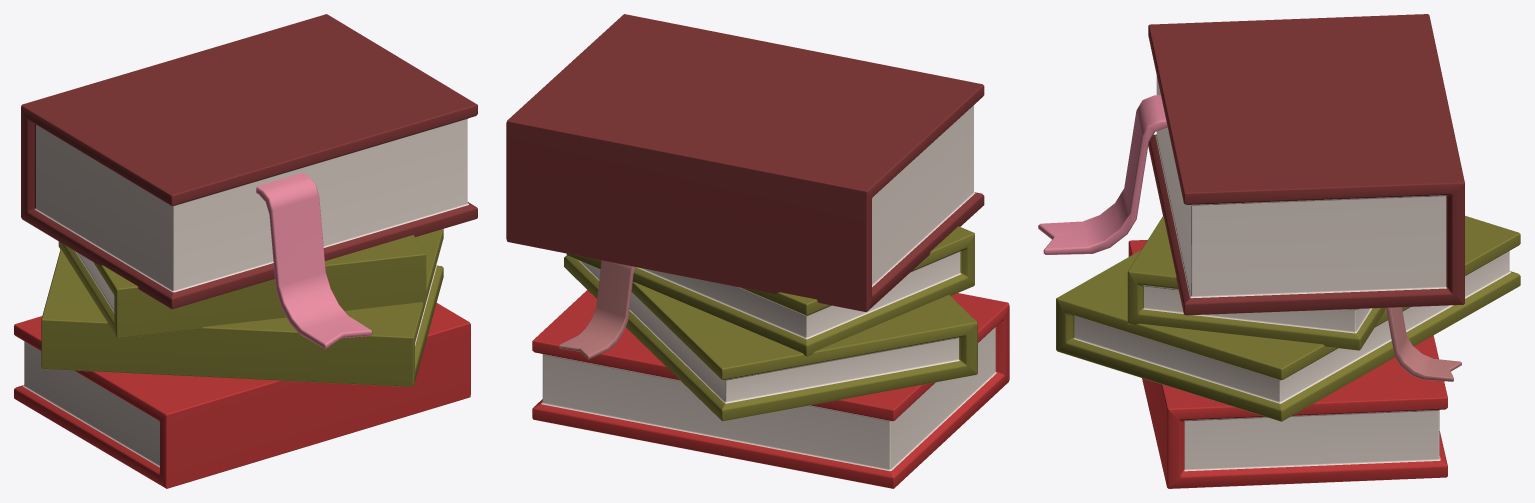
Rendered from Books_24.glb.
3 renders of one model, left to right at view 1: azimuth 30°, elevation 25°; view 2: azimuth 150°, elevation 25°; view 3: azimuth 270°, elevation 25°, orthographic. The views are drawn at different scales.
Parts seen in each view (by area): view 1: Books_24; view 2: Books_24; view 3: Books_24.
Part boxes in pixels (x1=…): Books_24: x1=14, y1=14, x2=477, y2=488; Books_24: x1=506, y1=14, x2=1009, y2=488; Books_24: x1=1038, y1=14, x2=1520, y2=488.
Size of the model in its own units: 0.3761 by 0.2581 by 0.3707.
Materials: 1 (1 with a texture image).
